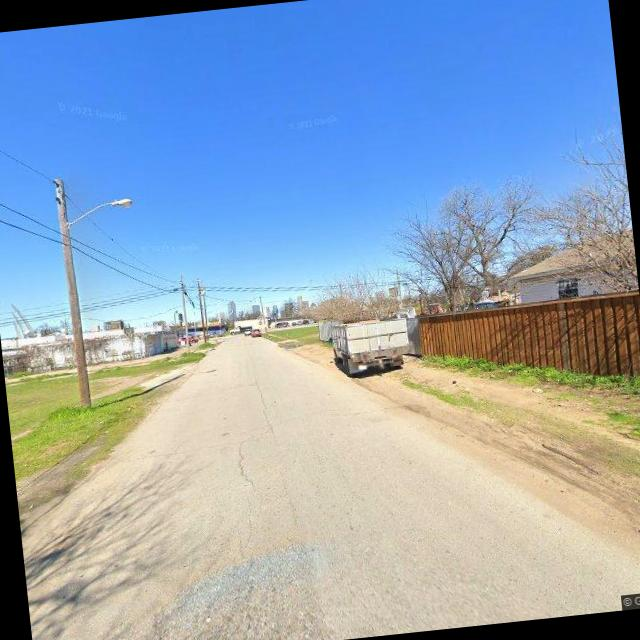crack: (248, 370, 281, 446), (228, 437, 255, 490)
